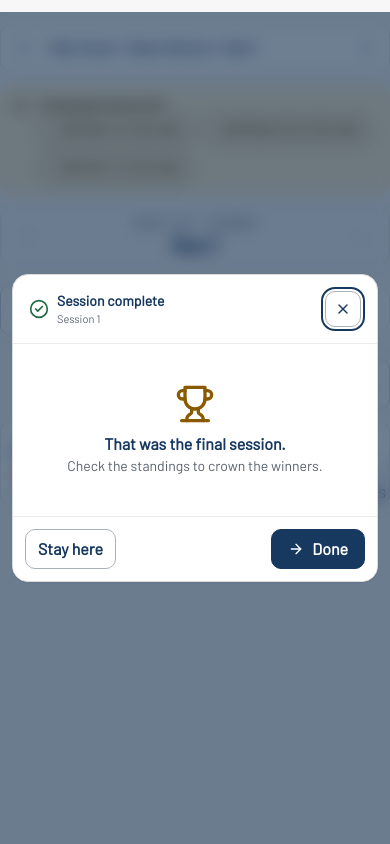
Scenario: SessionPage › offers the end-of-session screen when every heat is complete, and lets it be closed
Expected: the heading "Session complete" is shown, left=57, top=292, right=164, bottom=309
What coordinates should you click on to do the following:
click the button named "Close"
I would click on:
 (343, 309)
Its box is left=325, top=291, right=361, bottom=327.
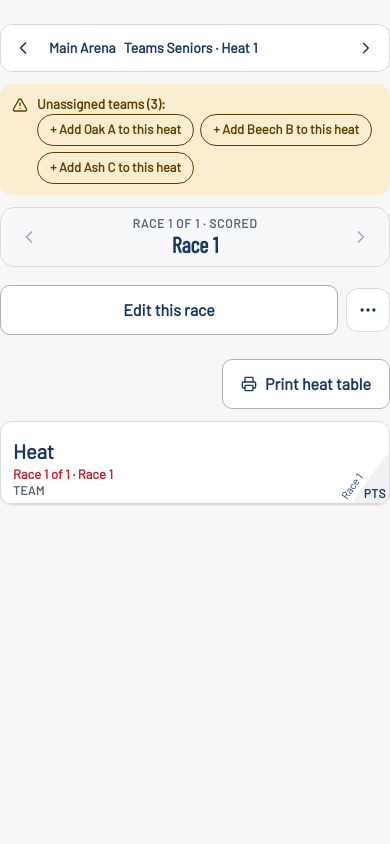
Result: the heading "Session complete" is gone
